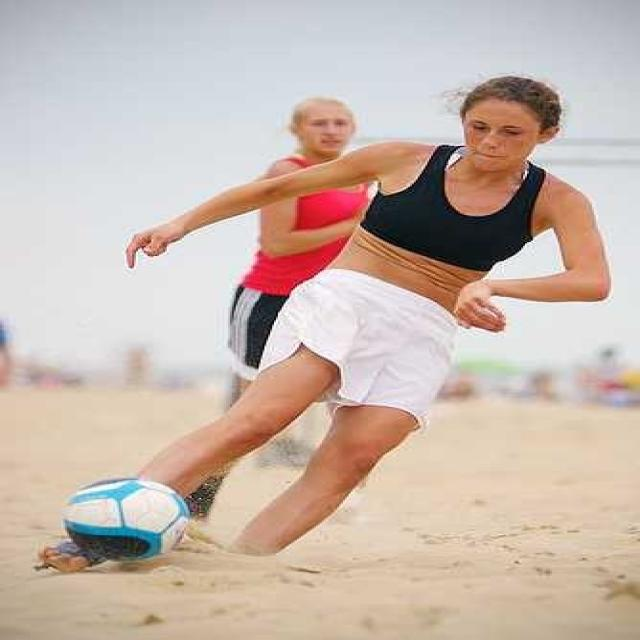ball: (64, 477, 190, 563)
